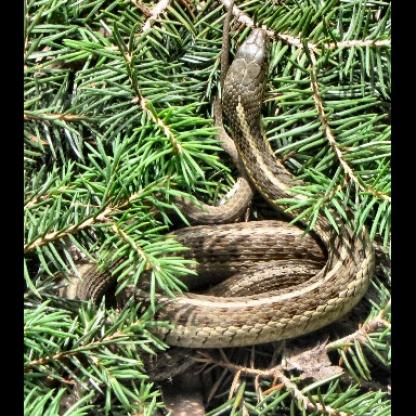Snake: (57, 20, 378, 357)
